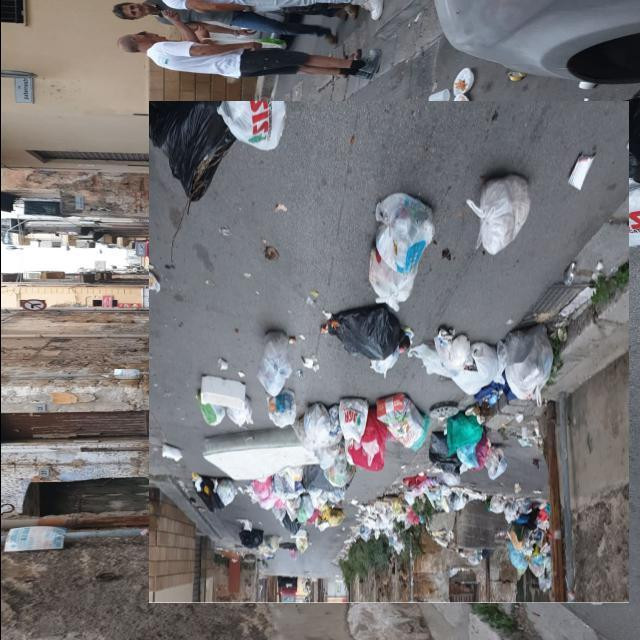Trashbag: (142, 103, 229, 197), (320, 304, 412, 360), (429, 432, 462, 474), (238, 525, 265, 549)
